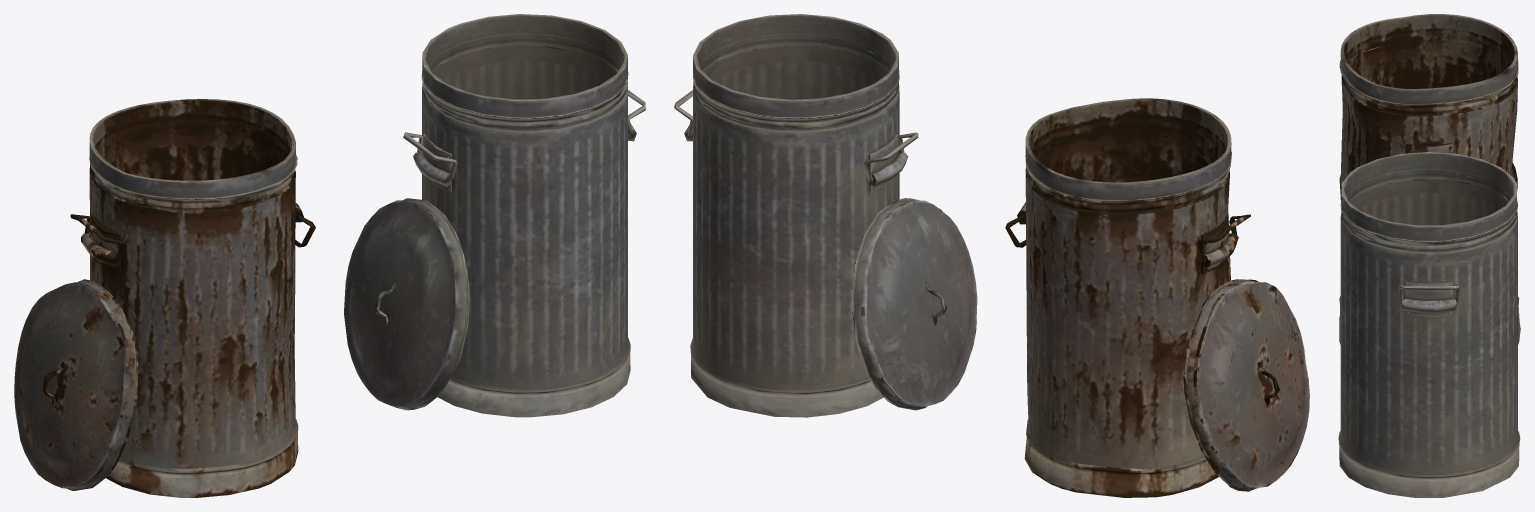
The model's file is metal_trash_can.glb.
3 renders of one model, left to right at view 1: azimuth 30°, elevation 25°; view 2: azimuth 150°, elevation 25°; view 3: azimuth 270°, elevation 25°, orthographic. The views are drawn at different scales.
Visible parts, largest first — view 1: metal_trash_can_handle_left, metal_trash_can_rust; view 2: metal_trash_can_handle_left, metal_trash_can_rust; view 3: metal_trash_can_handle_left, metal_trash_can_rust.
Part boxes in pixels (x1,y1,x2,y2): metal_trash_can_handle_left: (344, 14, 645, 417); metal_trash_can_rust: (14, 99, 315, 497); metal_trash_can_handle_left: (674, 14, 977, 417); metal_trash_can_rust: (1005, 98, 1309, 497); metal_trash_can_handle_left: (1338, 152, 1520, 497); metal_trash_can_rust: (1339, 14, 1519, 319).
Bounding box in the file's own units: 1.78 × 0.9062 × 0.5533.
Materials: 2 (2 with a texture image).
